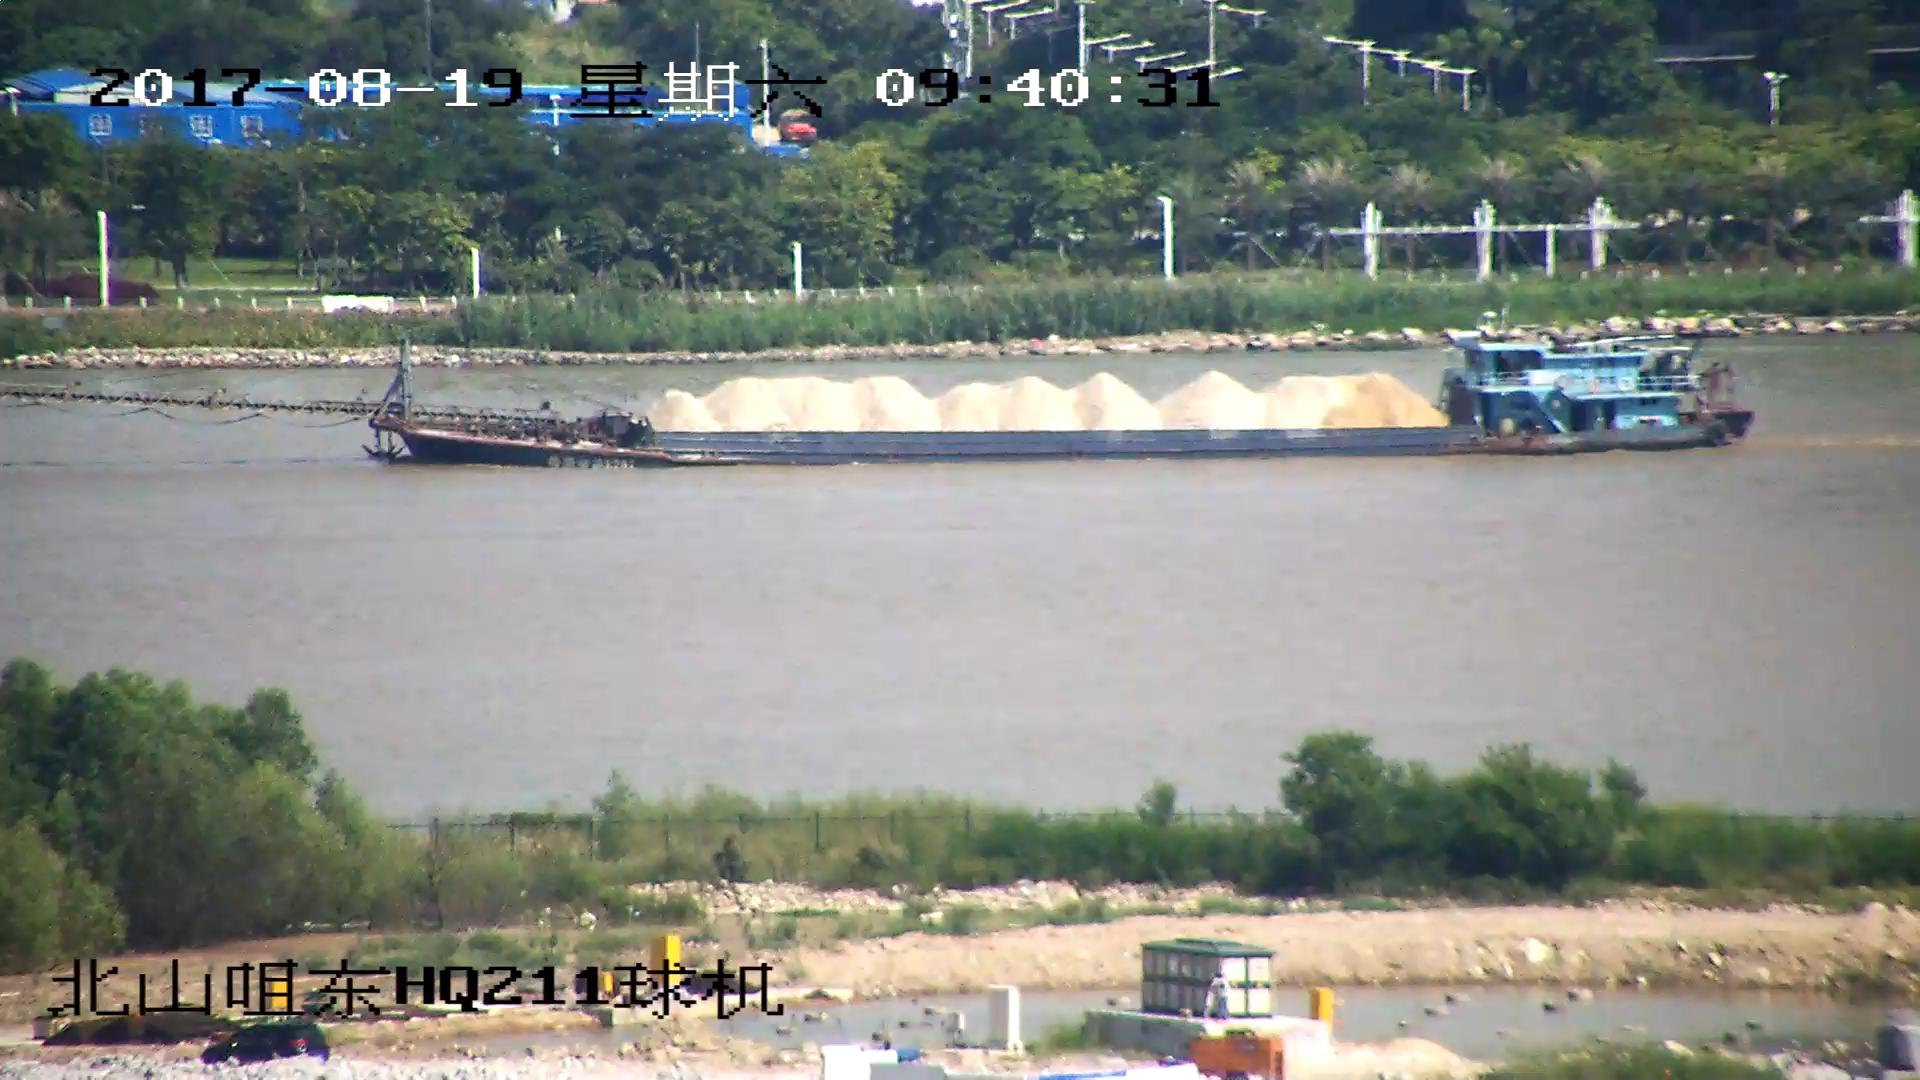ore carrier: (1, 317, 1759, 469)
